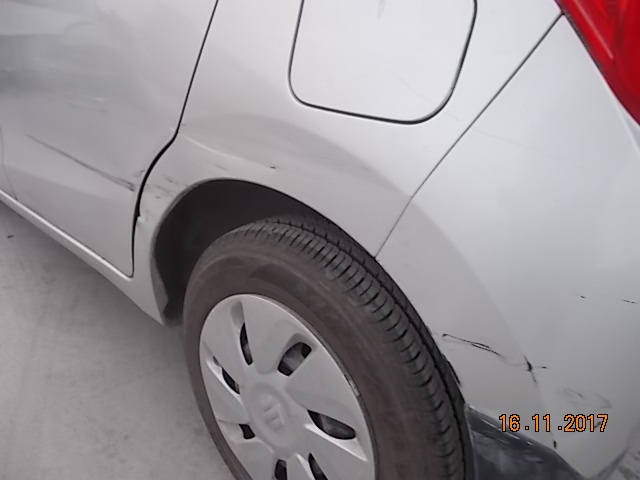Scratch_or_spot: (436, 326, 506, 360), (518, 352, 545, 386)
